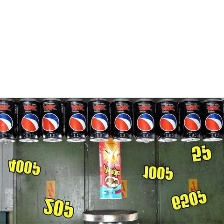can: (97, 137, 125, 203), (40, 92, 67, 144), (177, 97, 204, 144), (155, 97, 180, 147), (87, 94, 112, 144), (64, 93, 88, 145), (132, 96, 155, 146), (17, 93, 39, 143), (110, 98, 134, 143), (202, 97, 224, 142), (0, 97, 17, 144)
